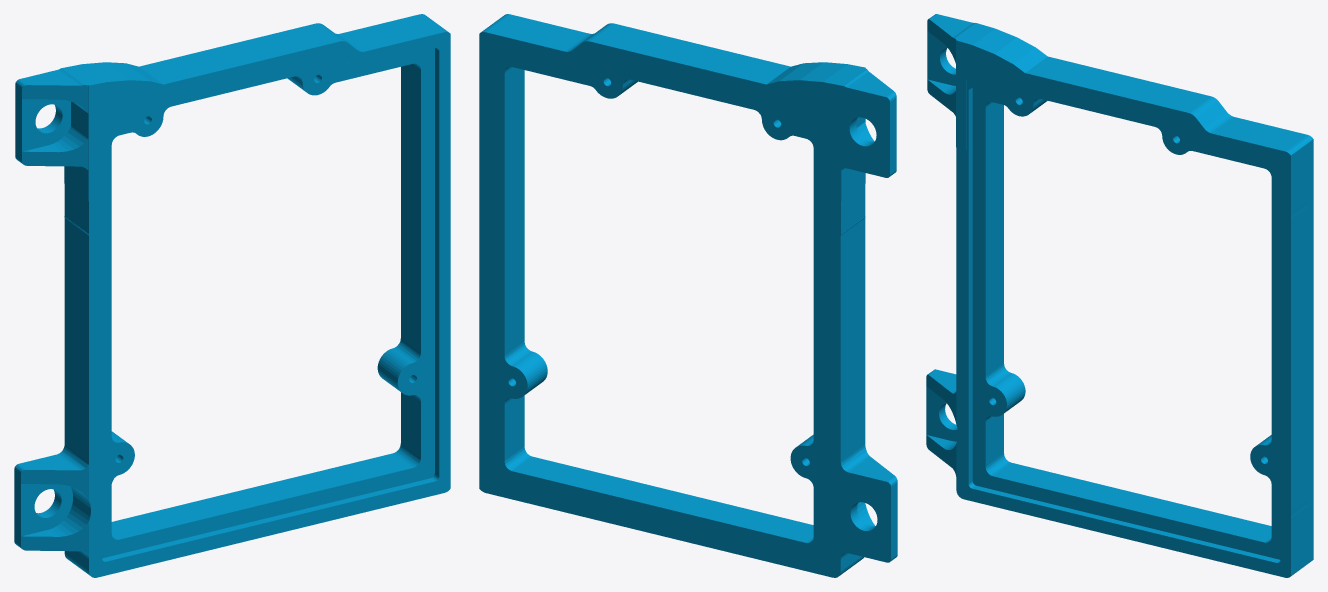
Rendered from tinker.obj.
The picture shows the model from 3 angles, left to right: view 1: azimuth 30°, elevation 25°; view 2: azimuth 150°, elevation 25°; view 3: azimuth 330°, elevation 25°; orthographic projection. The views are drawn at different scales.
Parts seen in each view (by area): view 1: obj_0; view 2: obj_0; view 3: obj_0.
Part boxes in pixels (bbox=[...]): obj_0: bbox=[14, 14, 450, 577]; obj_0: bbox=[479, 14, 897, 577]; obj_0: bbox=[926, 14, 1313, 577].
Bounding box in the file's own units: 67.7 × 77.66 × 7.
